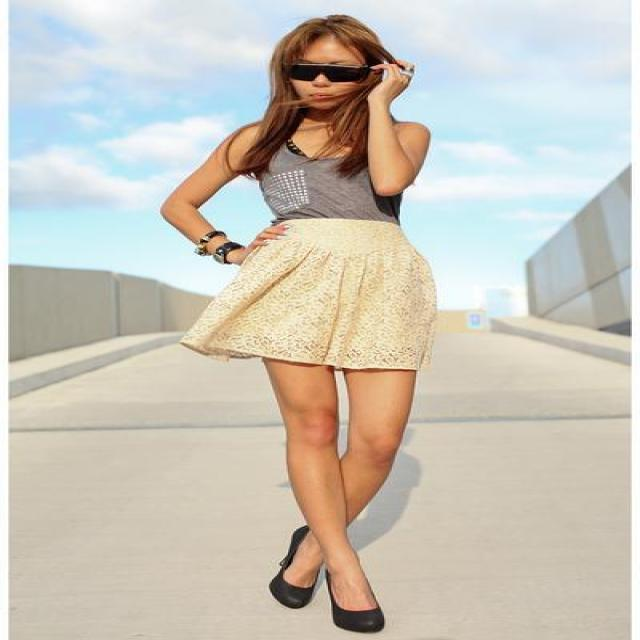shirt: (259, 141, 402, 225)
shoe: (269, 526, 384, 632)
skirt: (181, 218, 435, 369)
sunglass: (278, 48, 382, 93)
